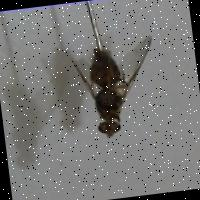Oriental-fruit-fly: (57, 18, 176, 170)
